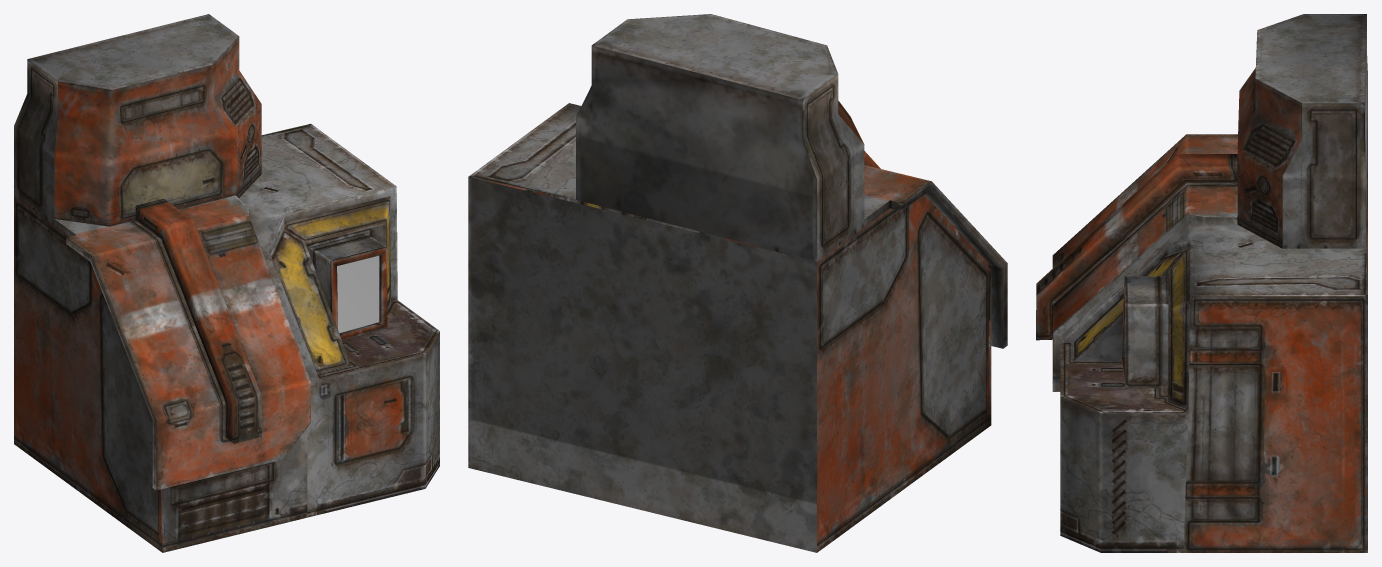
File: terminal_airlock_tau_large.dae
3 views of the same model, side by side, from view 1: azimuth 30°, elevation 25°; view 2: azimuth 150°, elevation 25°; view 3: azimuth 270°, elevation 25° (orthographic). The views are drawn at different scales.
Visible parts, largest first — view 1: Mesh, screen; view 2: Mesh; view 3: Mesh.
Boxes of the visible parts, bbox=[...] form: Mesh: bbox=[14, 14, 439, 552]; screen: bbox=[337, 255, 379, 333]; Mesh: bbox=[468, 14, 1007, 552]; Mesh: bbox=[1036, 14, 1367, 552].
Bounding box in the file's own units: 3.07 × 3.67 × 2.78.
